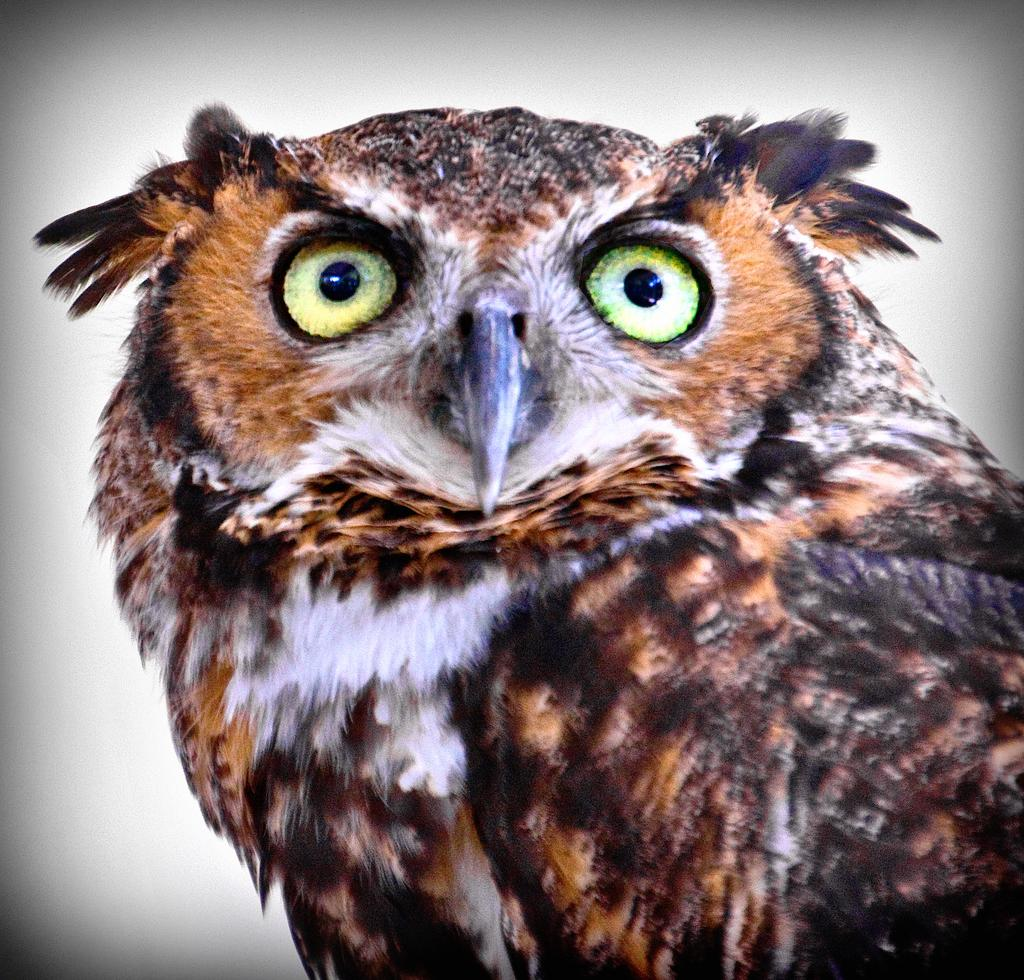Owl: (34, 95, 1024, 979)
